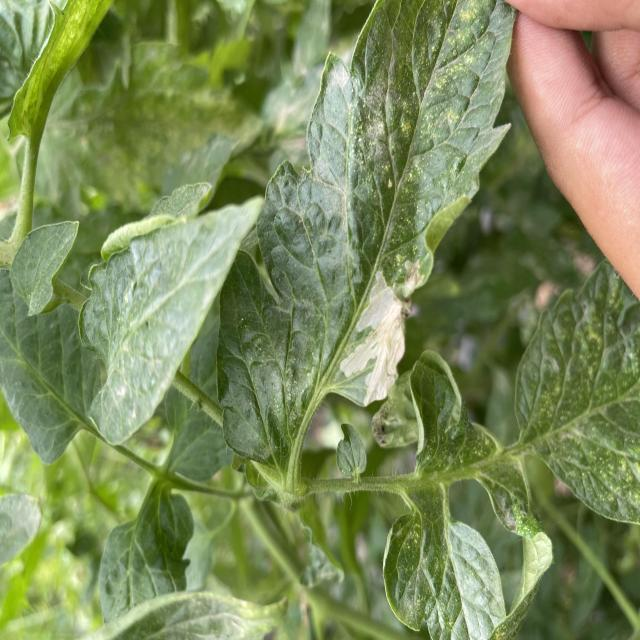Tuta absoluta: (330, 270, 429, 411), (401, 257, 424, 288)
